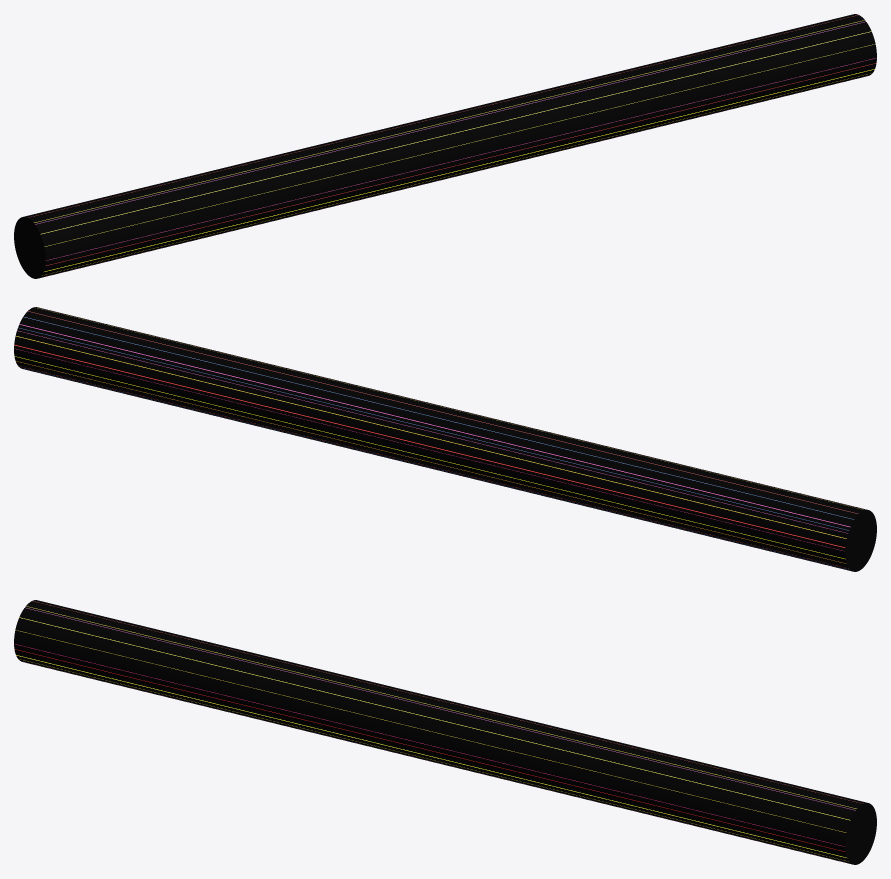
Rendered from niveau2.fbx.
3 renders of one model, top to bottom at view 1: azimuth 30°, elevation 25°; view 2: azimuth 150°, elevation 25°; view 3: azimuth 330°, elevation 25°, orthographic.
Parts seen in each view (by area): view 1: Cylindre; view 2: Cylindre; view 3: Cylindre.
Part boxes in pixels (bbox=[...]): Cylindre: bbox=[14, 14, 876, 278]; Cylindre: bbox=[14, 307, 876, 571]; Cylindre: bbox=[14, 600, 876, 864].
Size of the model in its own units: 181273 by 12000 by 12000.
